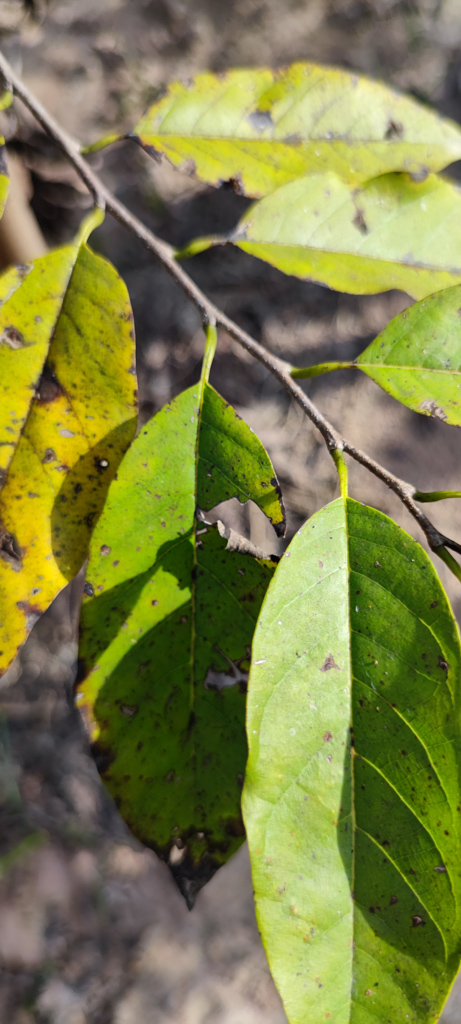Pepper yellow leaf: (4, 234, 134, 697), (122, 59, 458, 197), (206, 177, 457, 297)
